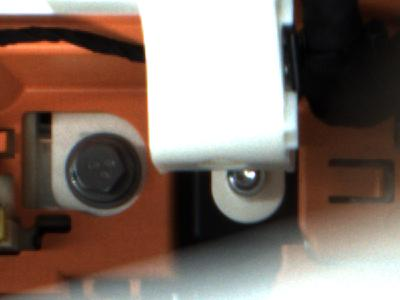nut_b: (63, 129, 146, 214)
